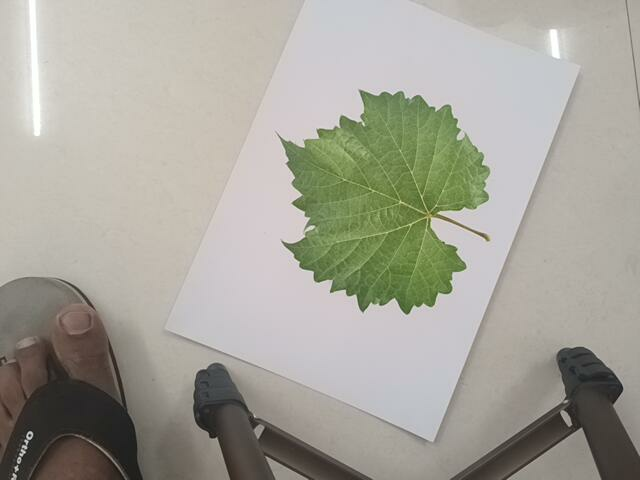Grape_Healthy: (270, 85, 497, 308)
